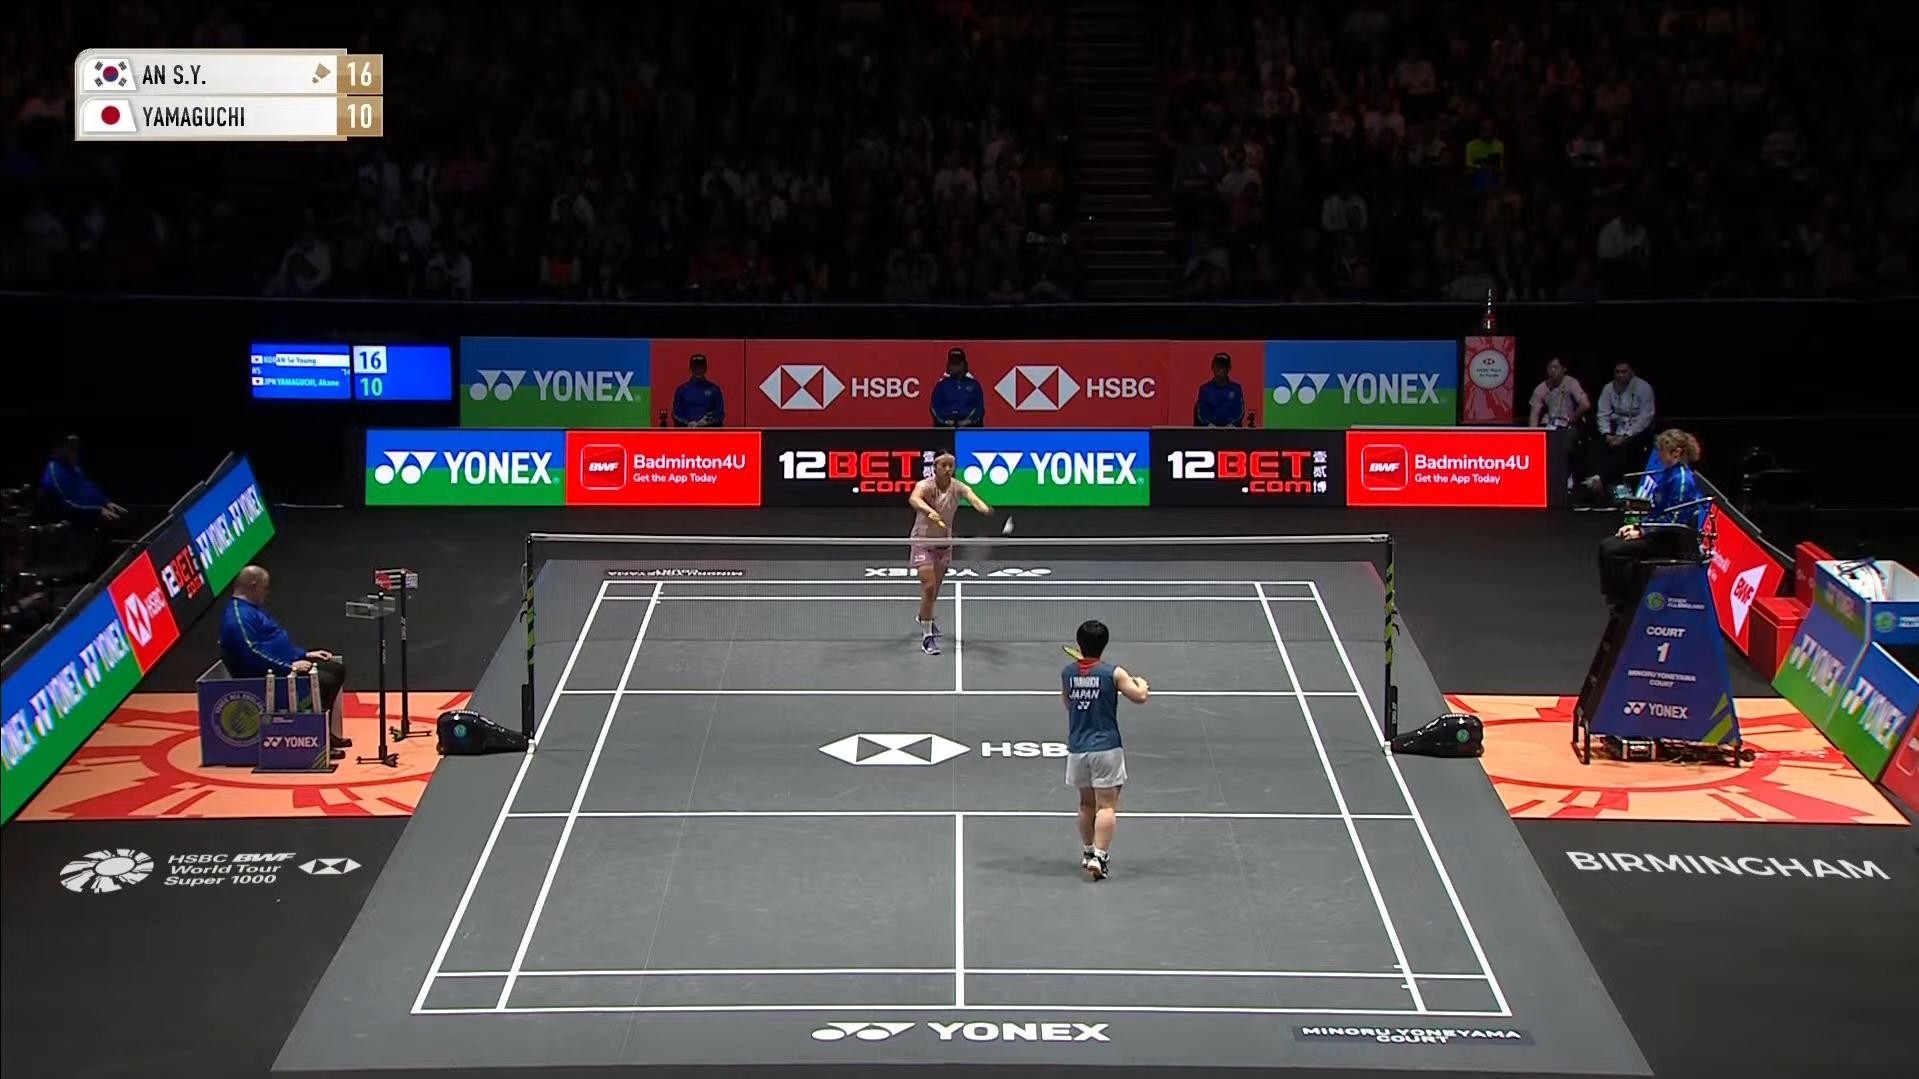shuttle: (998, 512, 1023, 538)
